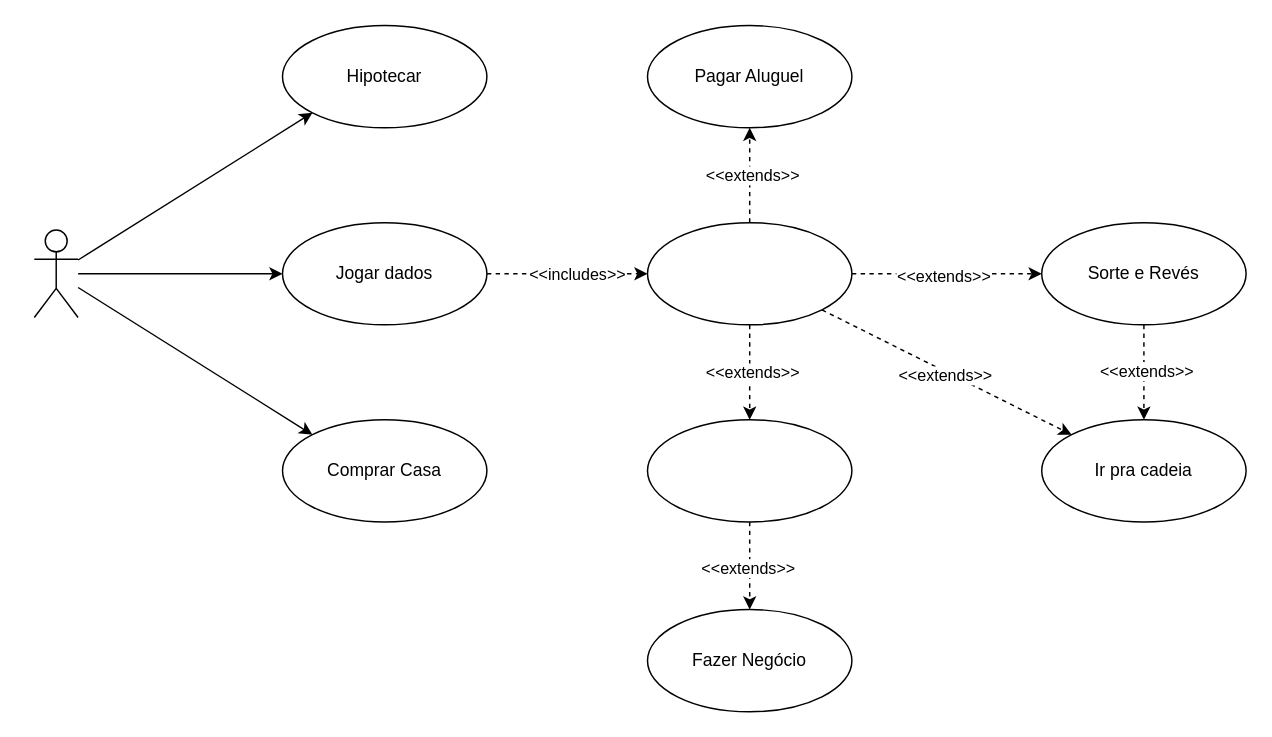
This 1272x737 diagram has some shape labels left out. The shapes that lost their labels are listed below. From the top down, each one's box as (x1, y1, x2, y2) in pixels, then its label:
(33, 228, 78, 318): Jogador
(646, 221, 852, 325): Mover Peão
(646, 418, 852, 522): Comprar Terreno
